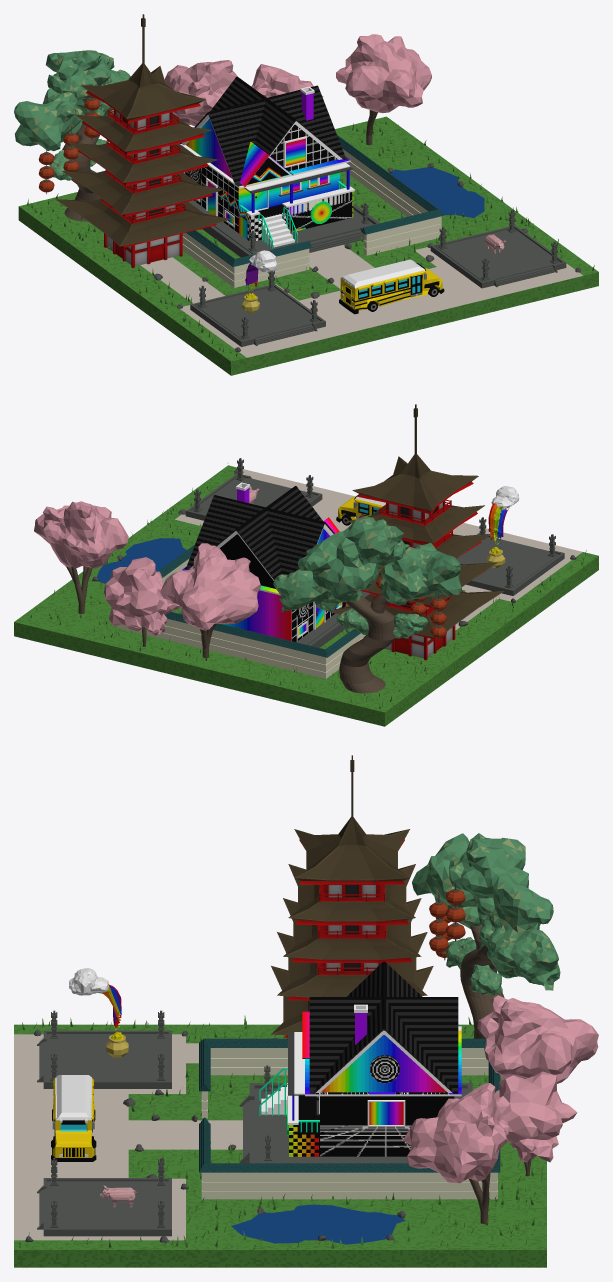
The picture shows the model from 3 angles, top to bottom: view 1: azimuth 30°, elevation 25°; view 2: azimuth 150°, elevation 25°; view 3: azimuth 270°, elevation 25°; orthographic projection. The views are drawn at different scales.
Parts seen in each view (by area): view 1: Cube.005, Cube.1320, VEHICLES_SCHOOL_BUS, OBJRANDOM_RAINBOW; view 2: Cube.005, Cube.1320, OBJRANDOM_RAINBOW, VEHICLES_SCHOOL_BUS; view 3: Cube.005, Cube.1320, VEHICLES_SCHOOL_BUS, OBJRANDOM_RAINBOW.
Part boxes in pixels (x1,y1,x2,y2): Cube.005: [14, 14, 598, 375]; Cube.1320: [179, 76, 354, 248]; VEHICLES_SCHOOL_BUS: [339, 259, 444, 314]; OBJRANDOM_RAINBOW: [241, 250, 277, 313]; Cube.005: [14, 404, 598, 726]; Cube.1320: [182, 482, 347, 642]; OBJRANDOM_RAINBOW: [486, 486, 519, 568]; VEHICLES_SCHOOL_BUS: [336, 494, 385, 525]; Cube.005: [14, 755, 598, 1267]; Cube.1320: [259, 961, 461, 1156]; VEHICLES_SCHOOL_BUS: [51, 1075, 96, 1161]; OBJRANDOM_RAINBOW: [69, 968, 128, 1057].
Size of the model in its own units: 4528 by 2668 by 4389.
47 materials, 7 textured.
